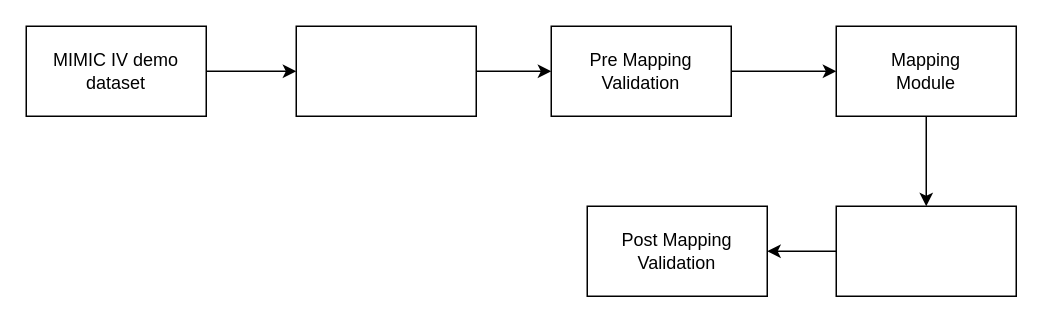
This 1043x323 diagram has some shape labels left out. Each missing label, with the centre of its shape:
EHRBase: pixel 925 250
Refinement Module: pixel 385 70
